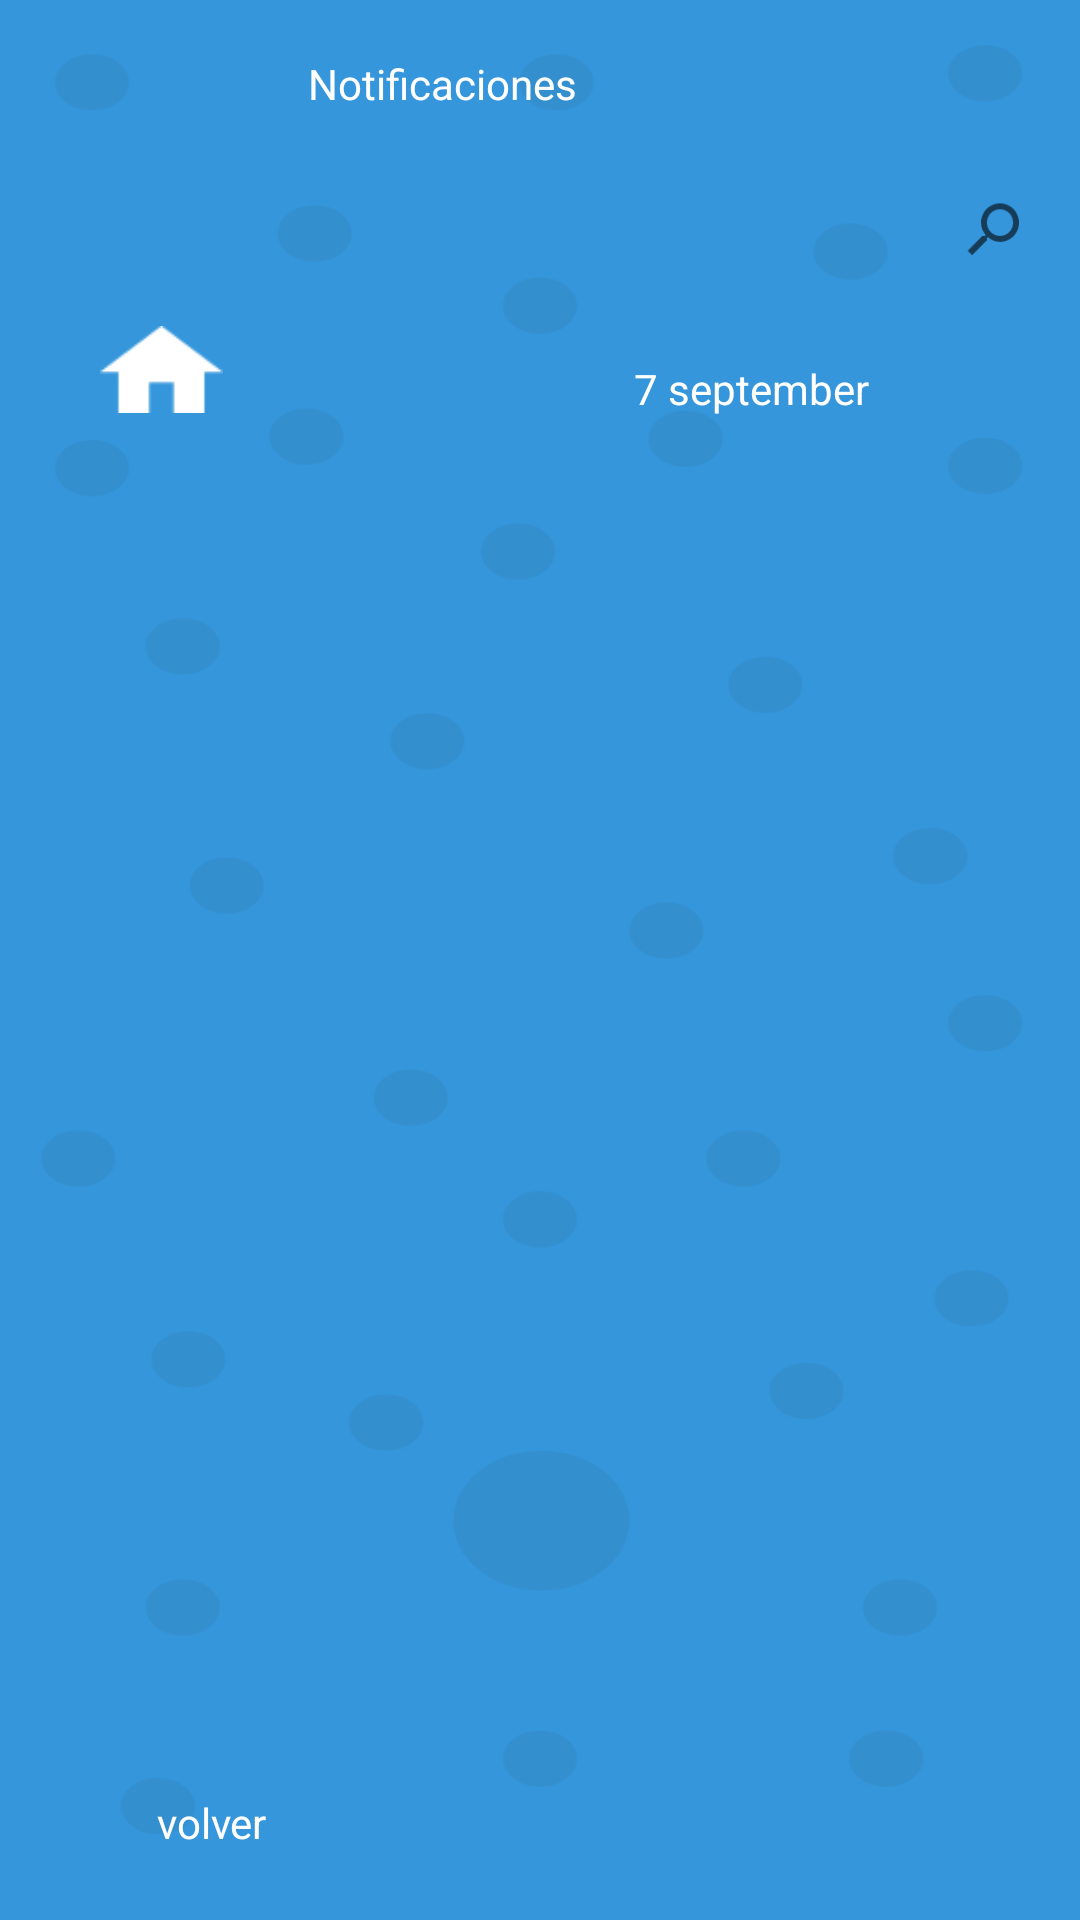

Icons on this 1080 × 1920 Android screen, each with the point to tap as (x,y):
home: (161,369)
